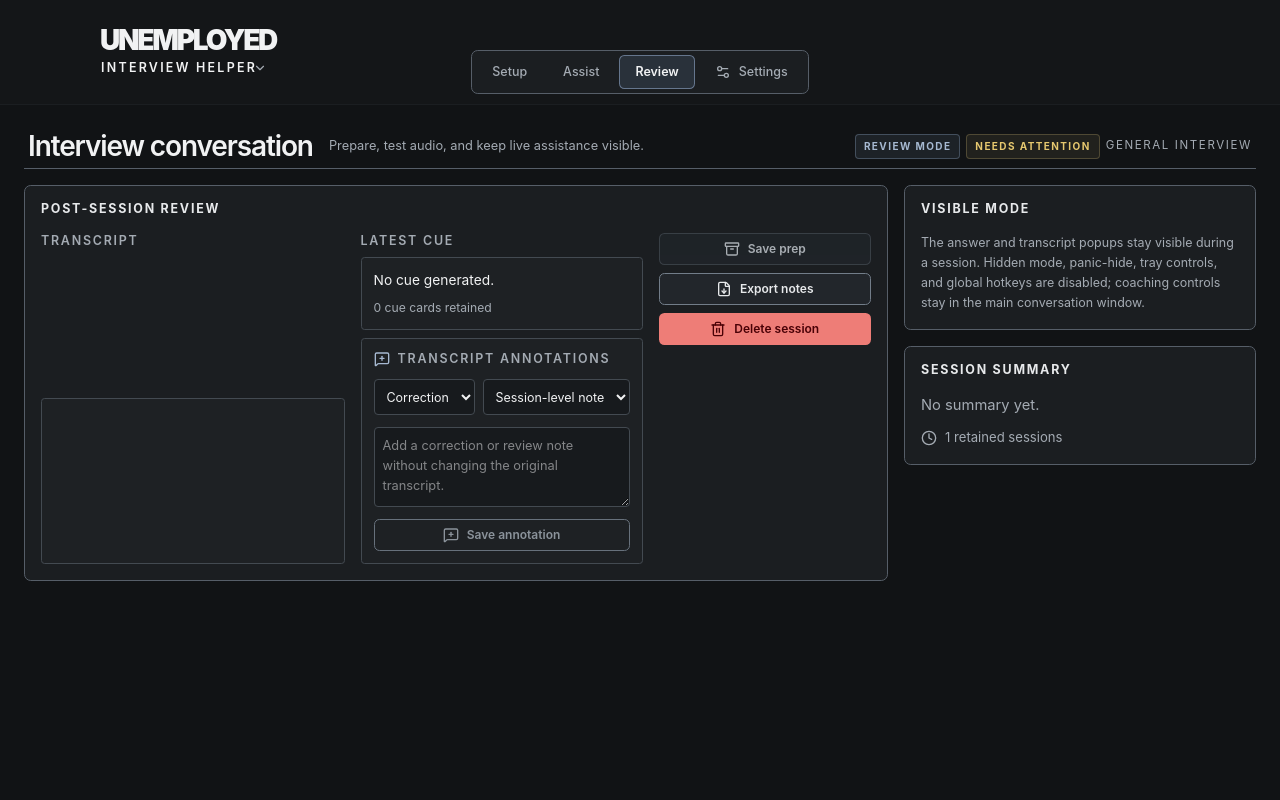
Scenario: Interview Helper section navigation › marks exactly one section as current and moves it when switching sections
Expected: the button "Review" is shown, [619,55,695,89]
What coordinates should you click on to do the following:
click the button "Settings"
I would click on:
 (751, 72)
Its box is [699,55,804,89].
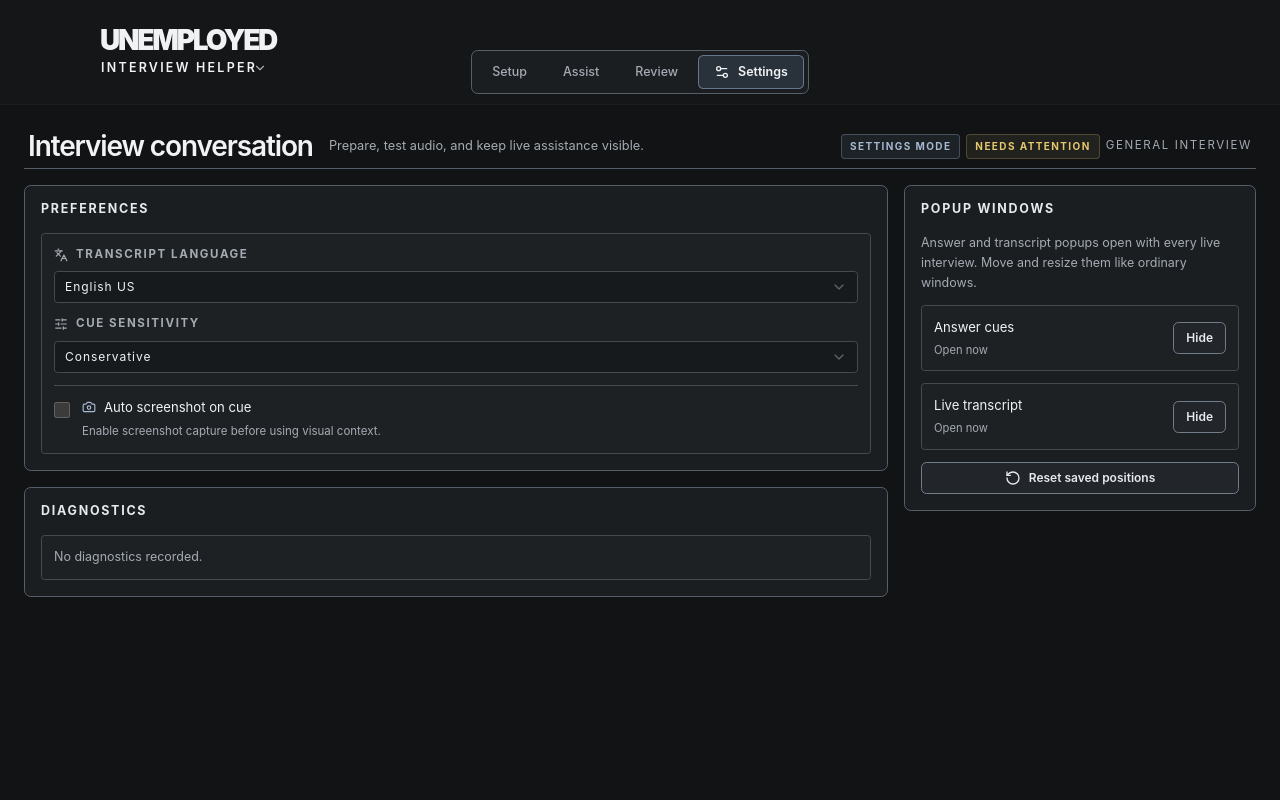
Expected: the heading "Preferences" is shown, [41,202,149,217]
Expected: the heading "Post-session review" is gone
